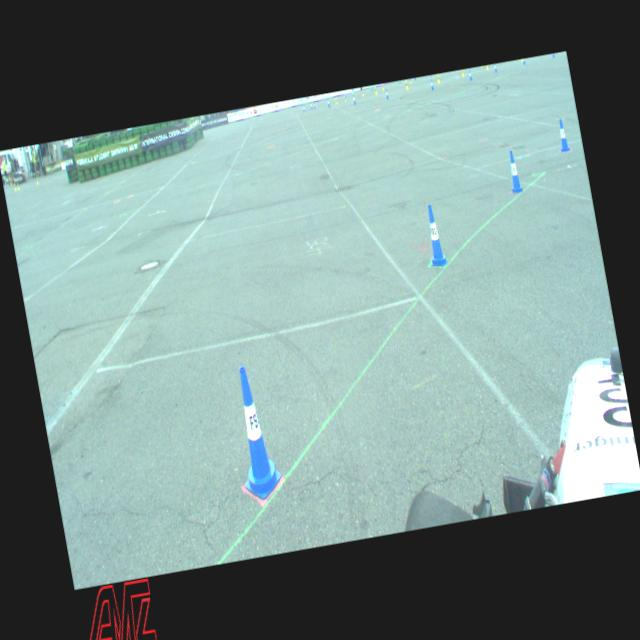blue_cone: (225, 362, 285, 502), (420, 204, 448, 266), (504, 149, 522, 193), (554, 117, 570, 152), (326, 96, 331, 108), (467, 69, 472, 81), (429, 78, 433, 90), (384, 88, 388, 99), (352, 93, 356, 104), (493, 64, 497, 74), (310, 102, 312, 110), (313, 102, 315, 110), (398, 80, 401, 84), (522, 58, 524, 62), (370, 86, 372, 90)
yellow_cone: (373, 84, 378, 95), (436, 74, 440, 84), (404, 80, 408, 90), (360, 88, 364, 97), (335, 96, 338, 104), (381, 82, 384, 90), (16, 182, 19, 190), (13, 183, 16, 190), (409, 78, 412, 84), (460, 68, 463, 74), (36, 176, 38, 184), (344, 94, 346, 102), (352, 91, 354, 99), (485, 64, 488, 68)
